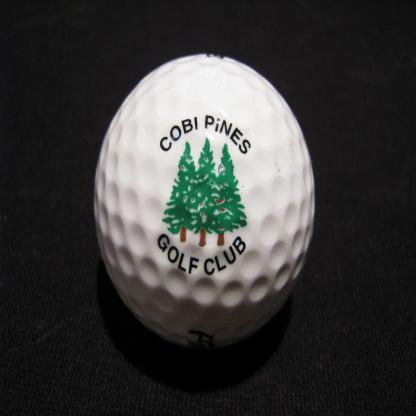Ball: (94, 53, 315, 349)
